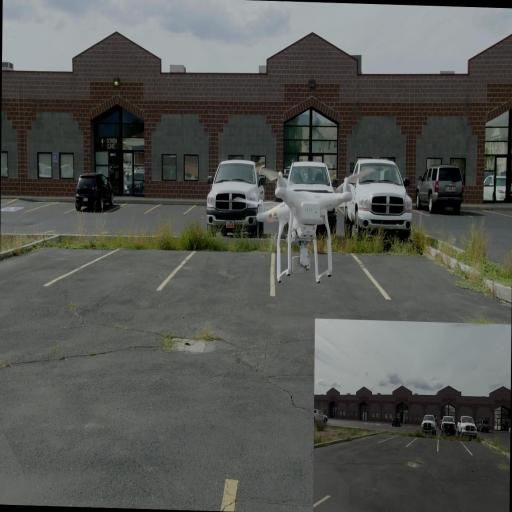drone: (236, 164, 377, 284)
